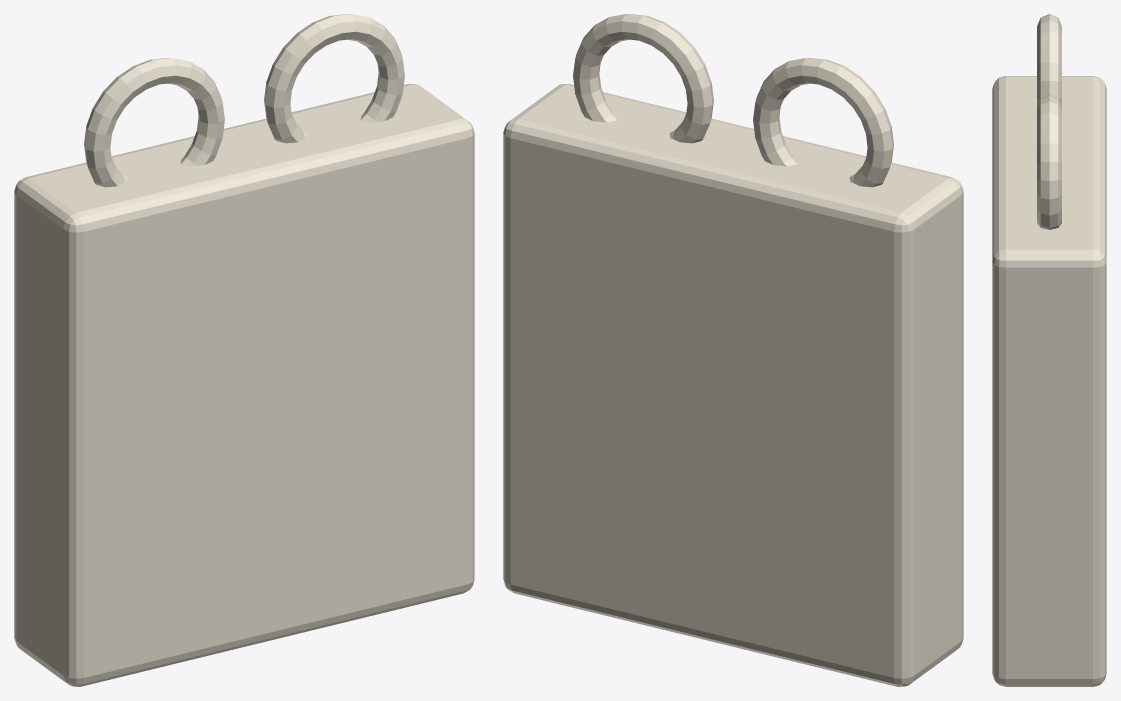
The model's file is tote.glb.
3 views of the same model, side by side, from view 1: azimuth 30°, elevation 25°; view 2: azimuth 150°, elevation 25°; view 3: azimuth 270°, elevation 25° (orthographic). The views are drawn at different scales.
Visible parts, largest first — view 1: tote_body; view 2: tote_body; view 3: tote_body.
Boxes of the visible parts, left/top/right/bottom form: tote_body: left=14, top=14, right=474, bottom=686; tote_body: left=503, top=14, right=963, bottom=686; tote_body: left=992, top=14, right=1106, bottom=686.
Bounding box in the file's own units: 0.38 × 0.5184 × 0.1.
